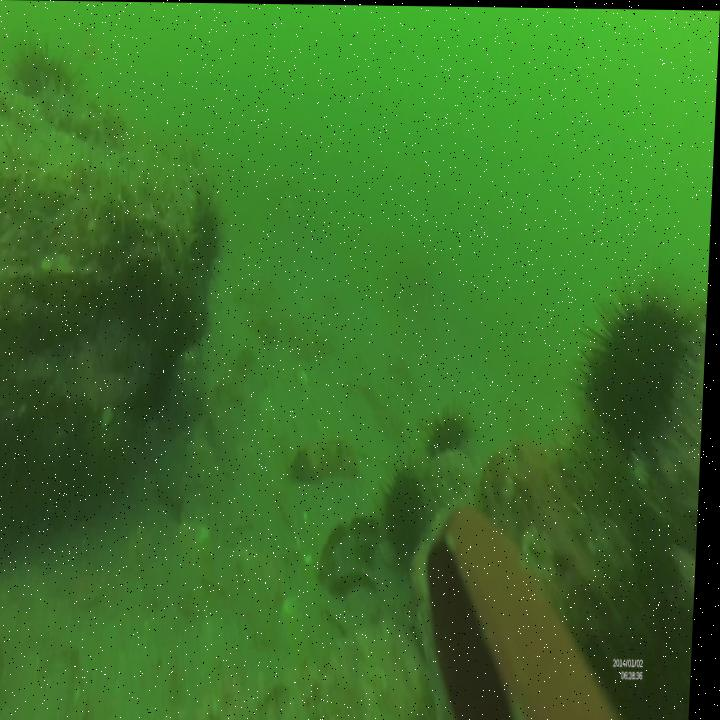echinus: (578, 277, 696, 434), (383, 459, 434, 563), (10, 32, 80, 104), (176, 265, 219, 370), (428, 400, 474, 452), (196, 199, 226, 278)
